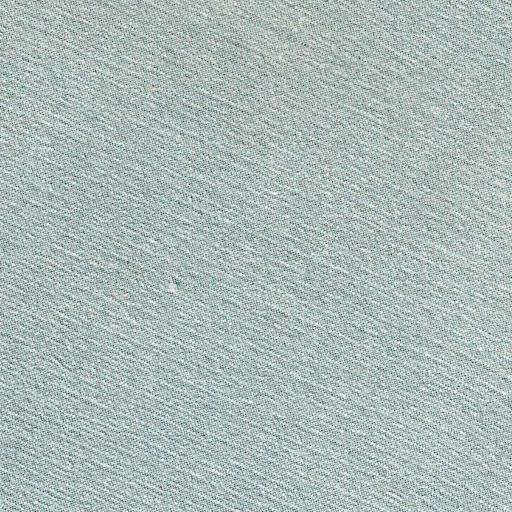knot: (161, 267, 196, 305)
